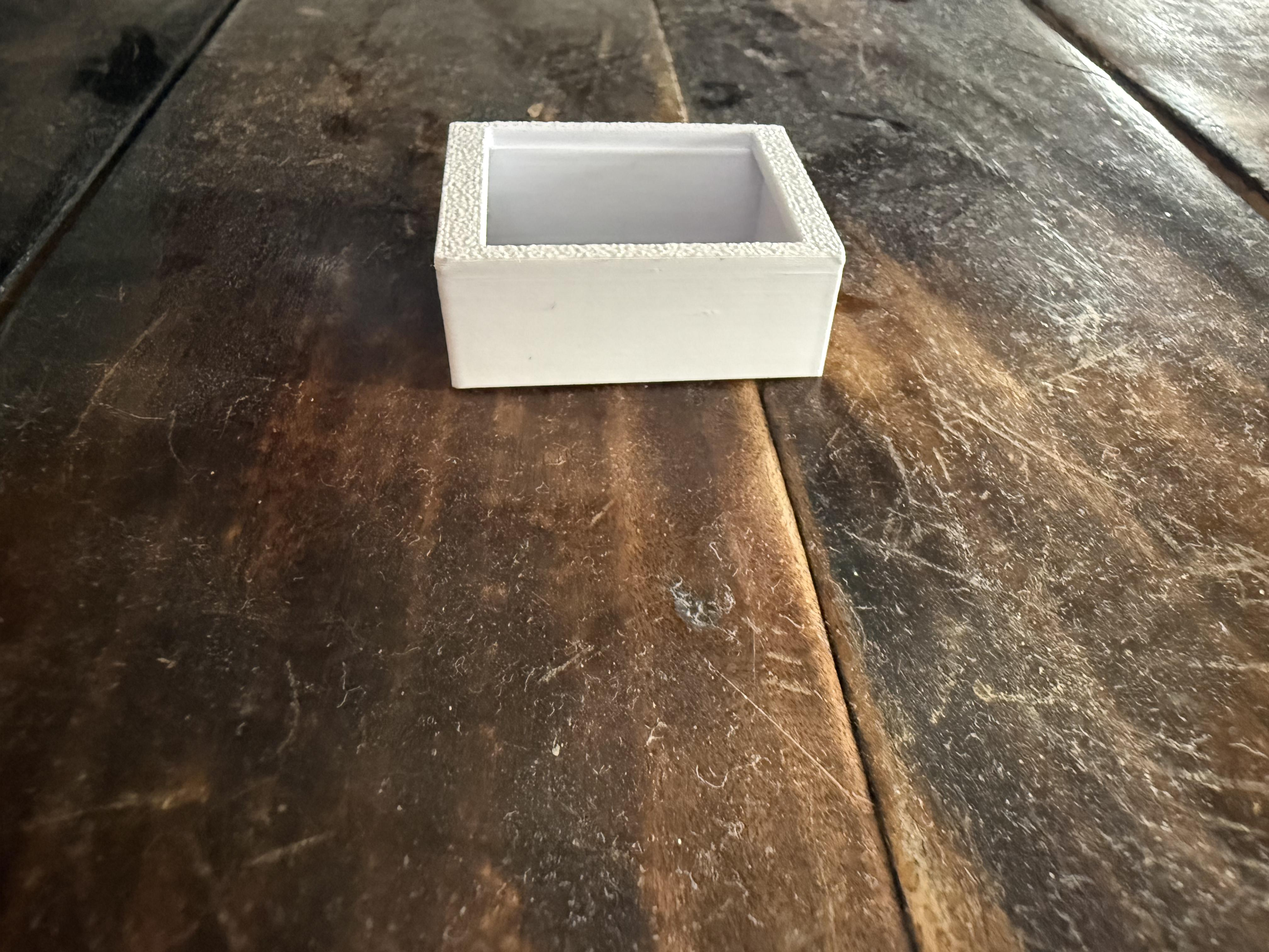enclosure: (433, 120, 846, 389)
